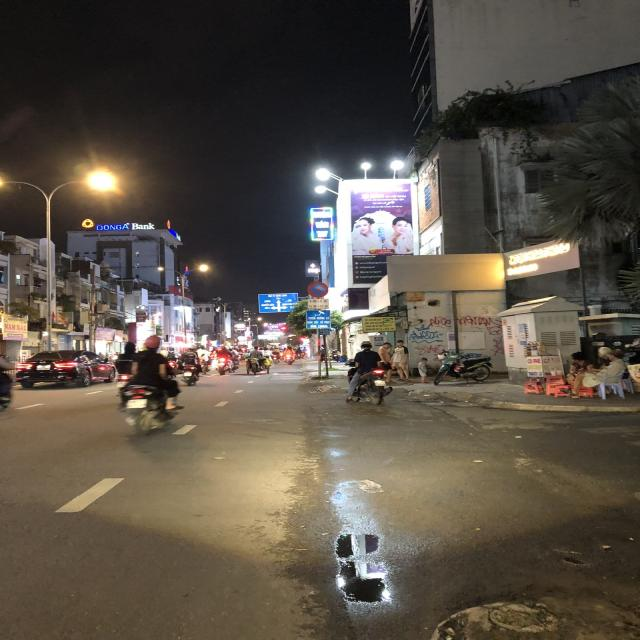Bien bao cam dung xe va do xe: (303, 280, 334, 298)
